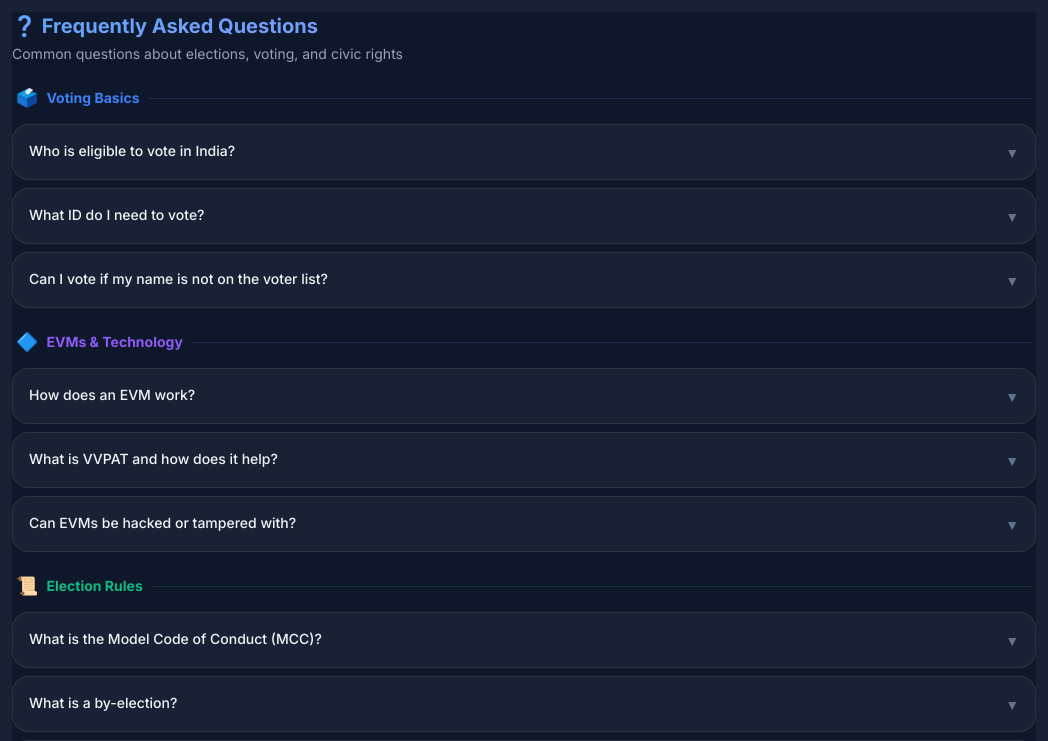
Test: FAQSection – Accordion Open/Close › clicking an open question closes it
This screenshot has width=1048, height=741.
Click the button "Who is eligible to vote in India? ▼": [132, 150] box [12, 124, 1036, 180]
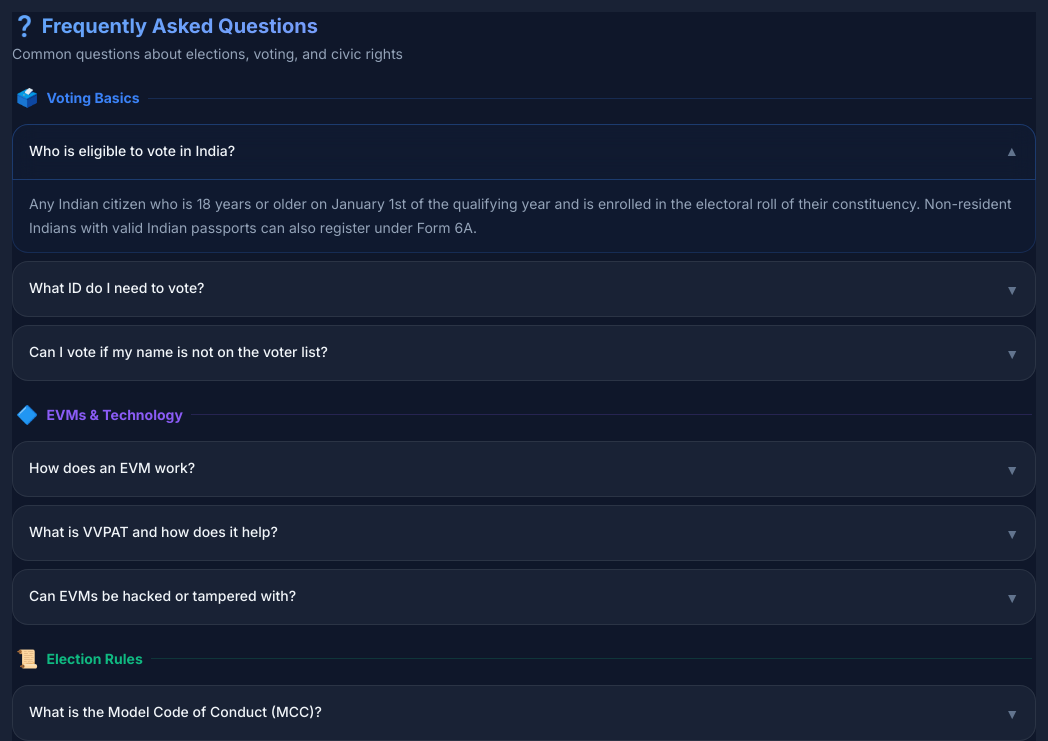
Click the button "Who is eligible to vote in India? ▼": [132, 150] box [12, 124, 1036, 180]
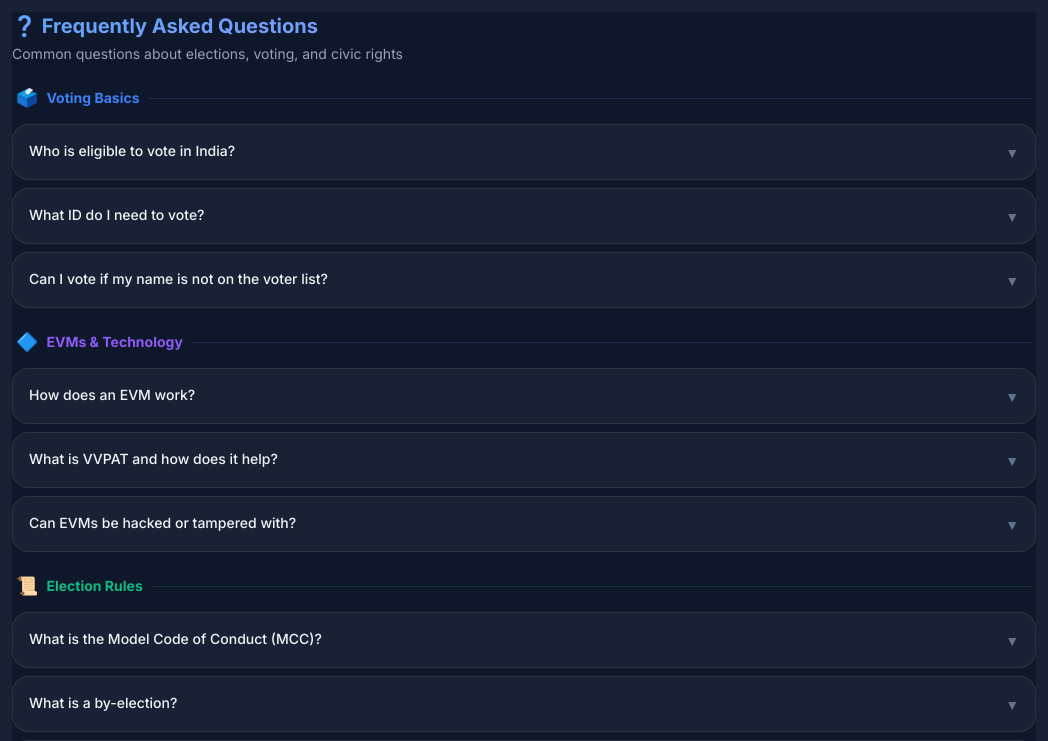
Check: the text "Any Indian citizen who is 18 years or older" is gone
